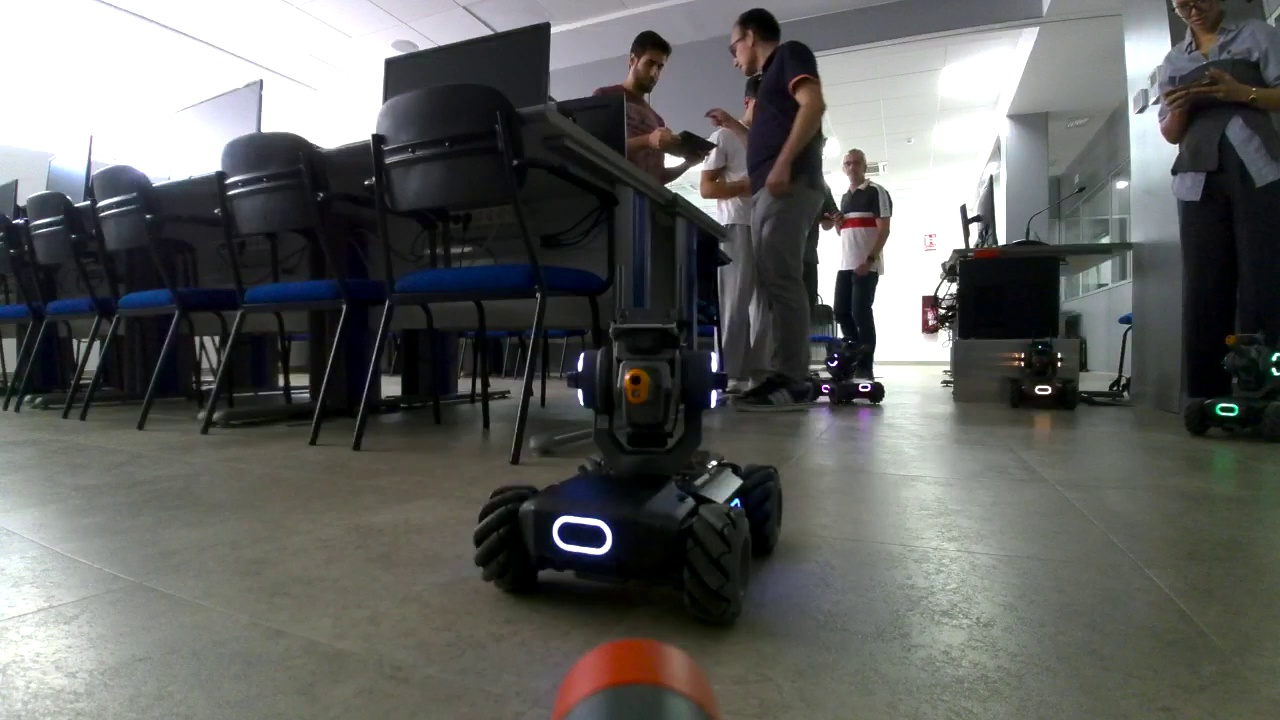robot: (476, 263, 778, 629), (1182, 331, 1280, 441), (809, 337, 886, 405), (1009, 333, 1077, 407)
